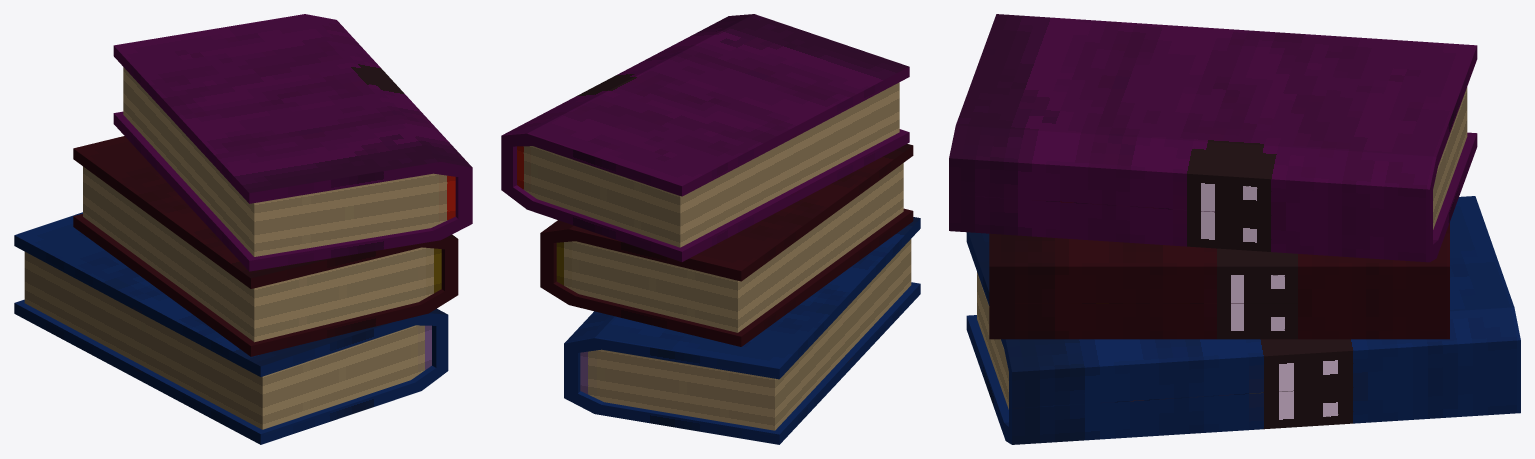
Rendered from E_BookLaying.2.fbx.
3 views of the same model, side by side, from view 1: azimuth 30°, elevation 25°; view 2: azimuth 150°, elevation 25°; view 3: azimuth 270°, elevation 25° (orthographic). The views are drawn at different scales.
Visible parts, largest first — view 1: Cube.006; view 2: Cube.006; view 3: Cube.006.
Boxes of the visible parts, x1,y1,x2,y2 form: Cube.006: (14, 14, 472, 444); Cube.006: (501, 14, 920, 444); Cube.006: (949, 14, 1520, 444).
Bounding box in the file's own units: 55.59 × 42.38 × 69.59.
